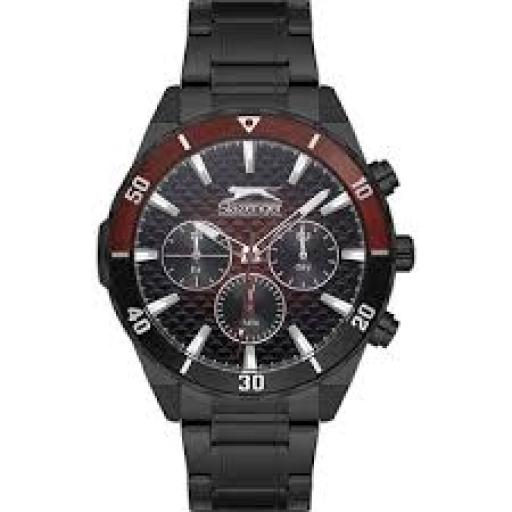KolSaati: (100, 0, 415, 512)
